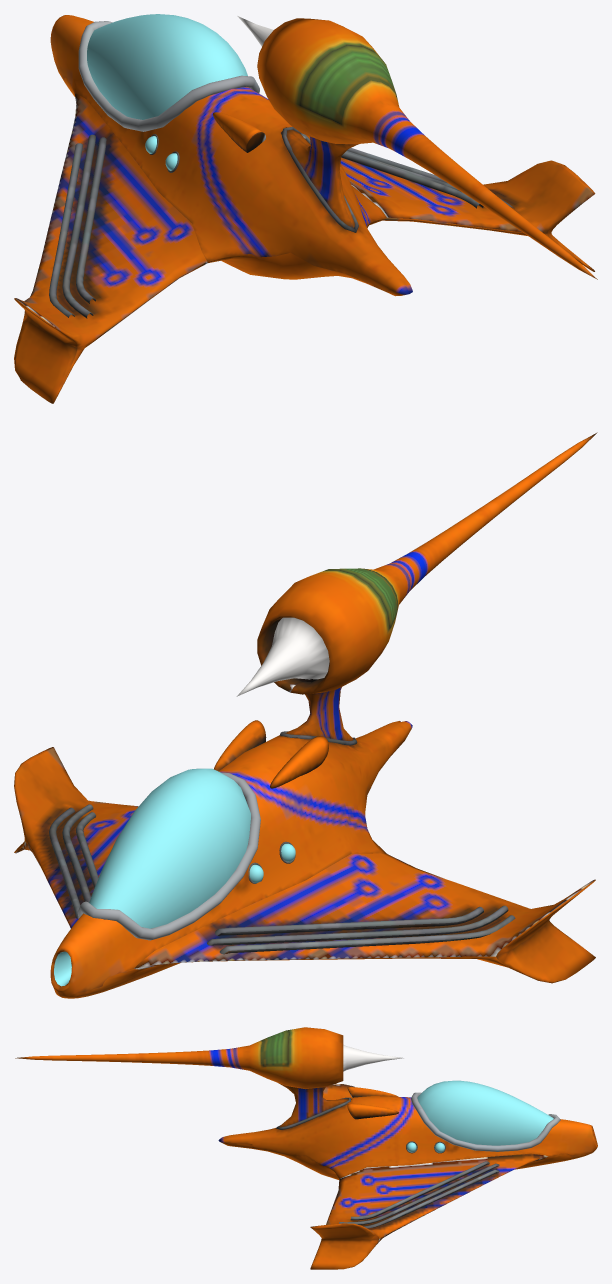
File: 1Ship.fbx
3 renders of one model, top to bottom at view 1: azimuth 30°, elevation 25°; view 2: azimuth 150°, elevation 25°; view 3: azimuth 270°, elevation 25°, orthographic. The views are drawn at different scales.
Visible parts, largest first — view 1: p1_wedge_geo1; view 2: p1_wedge_geo1; view 3: p1_wedge_geo1.
Boxes of the visible parts, x1=… form: p1_wedge_geo1: x1=14, y1=14, x2=597, y2=403; p1_wedge_geo1: x1=14, y1=432, x2=597, y2=998; p1_wedge_geo1: x1=15, y1=1027, x2=597, y2=1269.
Bounding box in the file's own units: 1854 × 1007 × 3176.
3 materials, 1 textured.
